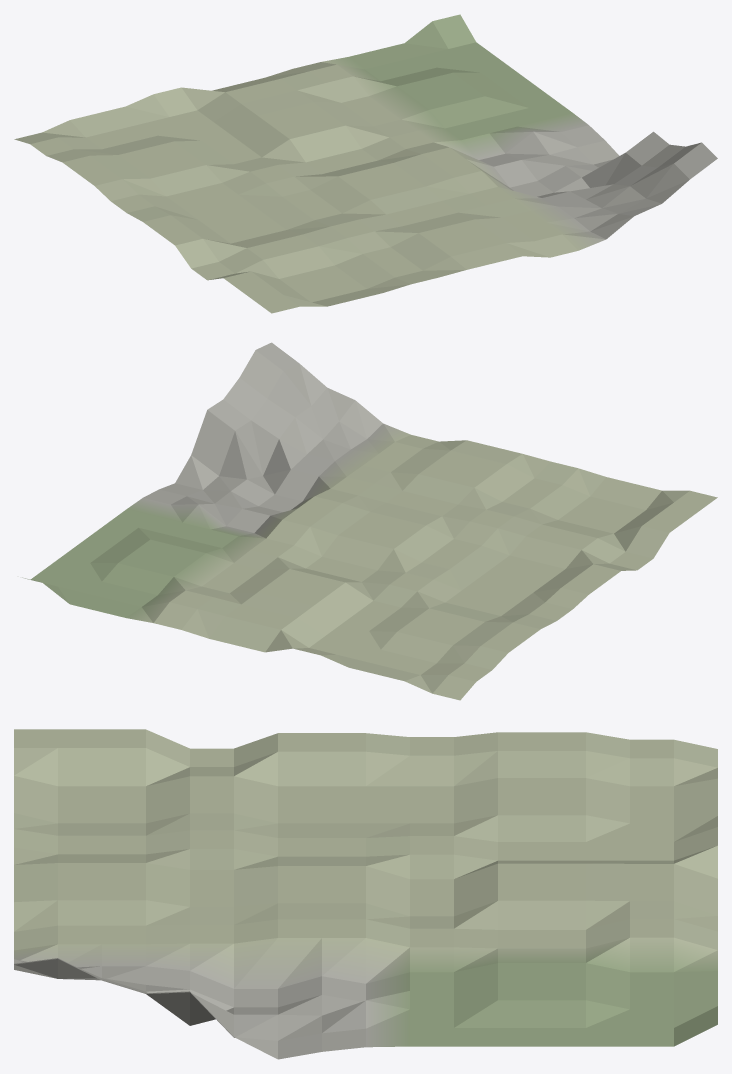
The picture shows the model from 3 angles, top to bottom: view 1: azimuth 30°, elevation 25°; view 2: azimuth 150°, elevation 25°; view 3: azimuth 270°, elevation 25°; orthographic projection. The views are drawn at different scales.
Size of the model in its own units: 32 by 5.27 by 32.
